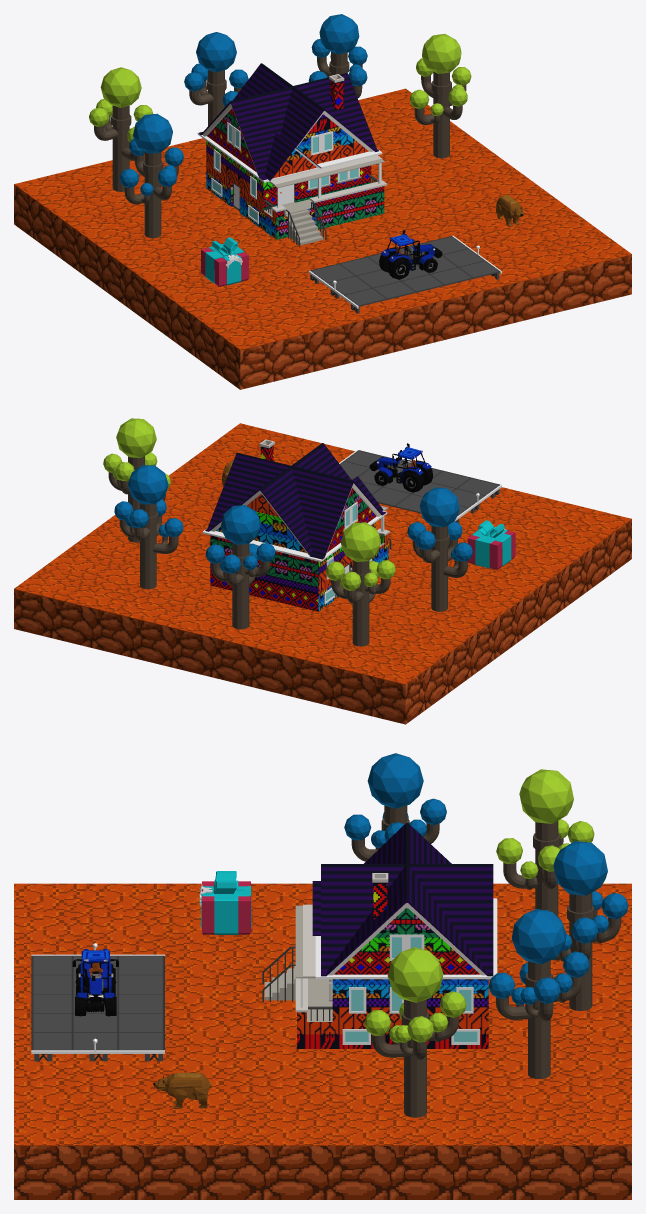
3 views of the same model, one above another, from view 1: azimuth 30°, elevation 25°; view 2: azimuth 150°, elevation 25°; view 3: azimuth 270°, elevation 25° (orthographic). The views are drawn at different scales.
Parts seen in each view (by area): view 1: Cube.001, Cube.966, OBJRANDOM_GIANT_PRESENT, VEHICLES_TRACTOR, ANIMAL_OSO; view 2: Cube.001, Cube.966, VEHICLES_TRACTOR, OBJRANDOM_GIANT_PRESENT; view 3: Cube.001, Cube.966, OBJRANDOM_GIANT_PRESENT, VEHICLES_TRACTOR, ANIMAL_OSO.
Part boxes in pixels (x1,y1,x2,y2): Cube.001: (14, 14, 631, 389); Cube.966: (197, 63, 387, 246); OBJRANDOM_GIANT_PRESENT: (201, 237, 248, 286); VEHICLES_TRACTOR: (379, 230, 442, 279); ANIMAL_OSO: (496, 195, 524, 226); Cube.001: (14, 418, 631, 724); Cube.966: (202, 439, 391, 611); VEHICLES_TRACTOR: (369, 443, 432, 492); OBJRANDOM_GIANT_PRESENT: (467, 520, 515, 569); Cube.001: (14, 753, 631, 1199); Cube.966: (262, 823, 497, 1048); OBJRANDOM_GIANT_PRESENT: (199, 871, 251, 934); VEHICLES_TRACTOR: (72, 949, 118, 1016); ANIMAL_OSO: (153, 1072, 211, 1108).
Bounding box in the file's own units: 4000 × 1672 × 4000.
35 materials, 8 textured.
